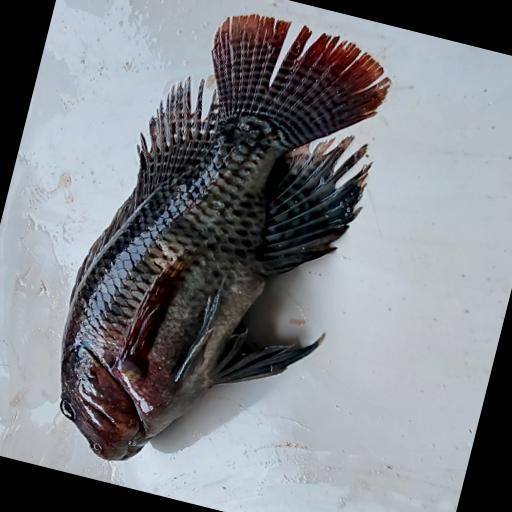Tilapia: (34, 0, 402, 506)
